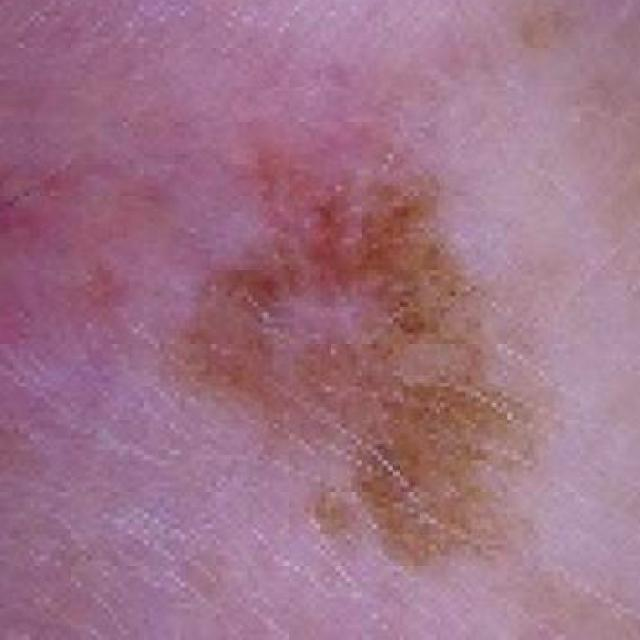MEL: (158, 85, 564, 640)
